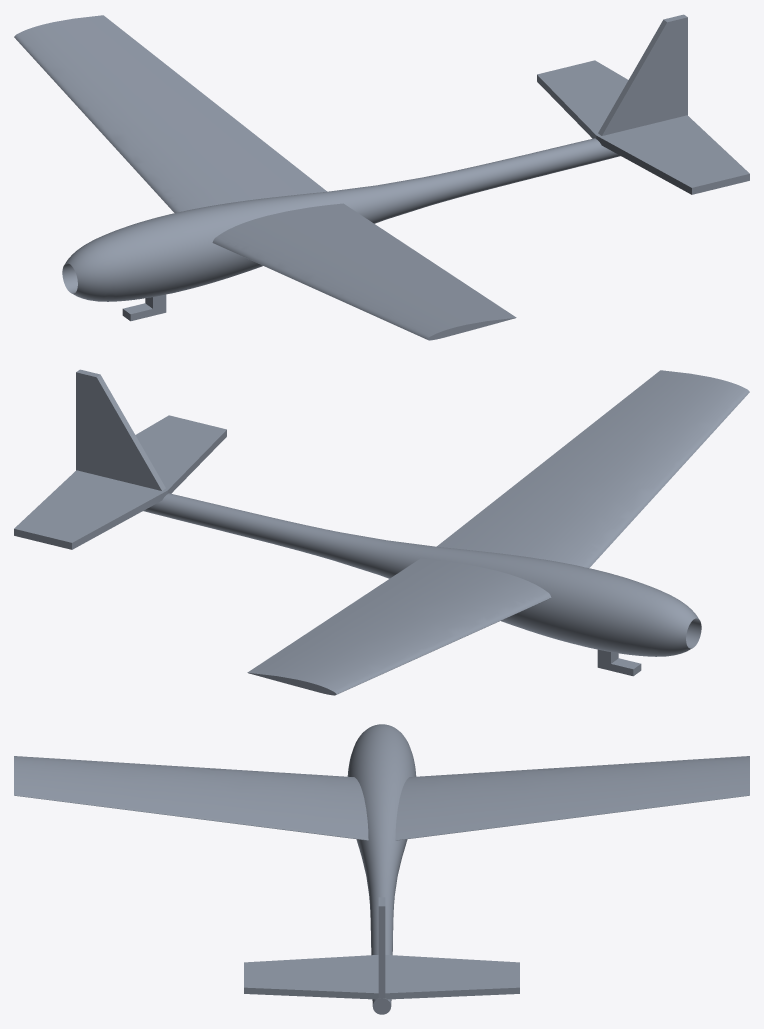
Rendered from step-5.glb.
The picture shows the model from 3 angles, top to bottom: view 1: azimuth 30°, elevation 25°; view 2: azimuth 150°, elevation 25°; view 3: azimuth 270°, elevation 25°; orthographic projection. The views are drawn at different scales.
Visible parts, largest first — view 1: face_1b6819f219a328fa14c4, face_66c1ee3c38b261897820, face_d33251d08d022978a54a, face_76a3fb0b22056808802d, face_658e2ca4811a72044629, face_57a8f3beee3c2707dafd, face_3b3e4980c0586935a9ae; view 2: face_d33251d08d022978a54a, face_66c1ee3c38b261897820, face_1b6819f219a328fa14c4, face_76a3fb0b22056808802d, face_406c362d7a0ff2adb41b, face_c5007920976ef4ee8372, face_3b3e4980c0586935a9ae; view 3: face_d33251d08d022978a54a, face_1b6819f219a328fa14c4, face_76a3fb0b22056808802d, face_66c1ee3c38b261897820, face_70dc61fc1ed8a2a74dee, face_ee4de867488a868859d9, face_ab595e4eb4a85a1cb766.
Part boxes in pixels (x1,y1,x2,y2): face_1b6819f219a328fa14c4: (14, 15, 326, 212); face_66c1ee3c38b261897820: (65, 138, 620, 301); face_d33251d08d022978a54a: (212, 203, 515, 339); face_76a3fb0b22056808802d: (537, 60, 749, 187); face_658e2ca4811a72044629: (602, 17, 687, 135); face_57a8f3beee3c2707dafd: (596, 135, 691, 194); face_3b3e4980c0586935a9ae: (598, 19, 666, 135); face_d33251d08d022978a54a: (437, 370, 749, 567); face_66c1ee3c38b261897820: (143, 493, 698, 656); face_1b6819f219a328fa14c4: (248, 558, 551, 694); face_76a3fb0b22056808802d: (14, 415, 226, 542); face_406c362d7a0ff2adb41b: (76, 372, 161, 490); face_c5007920976ef4ee8372: (72, 490, 167, 549); face_3b3e4980c0586935a9ae: (97, 374, 165, 490); face_d33251d08d022978a54a: (14, 756, 368, 840); face_1b6819f219a328fa14c4: (395, 756, 749, 840); face_76a3fb0b22056808802d: (244, 955, 519, 993); face_66c1ee3c38b261897820: (347, 724, 416, 1005); face_70dc61fc1ed8a2a74dee: (244, 987, 379, 999); face_ee4de867488a868859d9: (384, 987, 519, 999); face_ab595e4eb4a85a1cb766: (378, 906, 385, 997).
Bounding box in the file's own units: 0.1376 × 0.0355 × 0.16.
